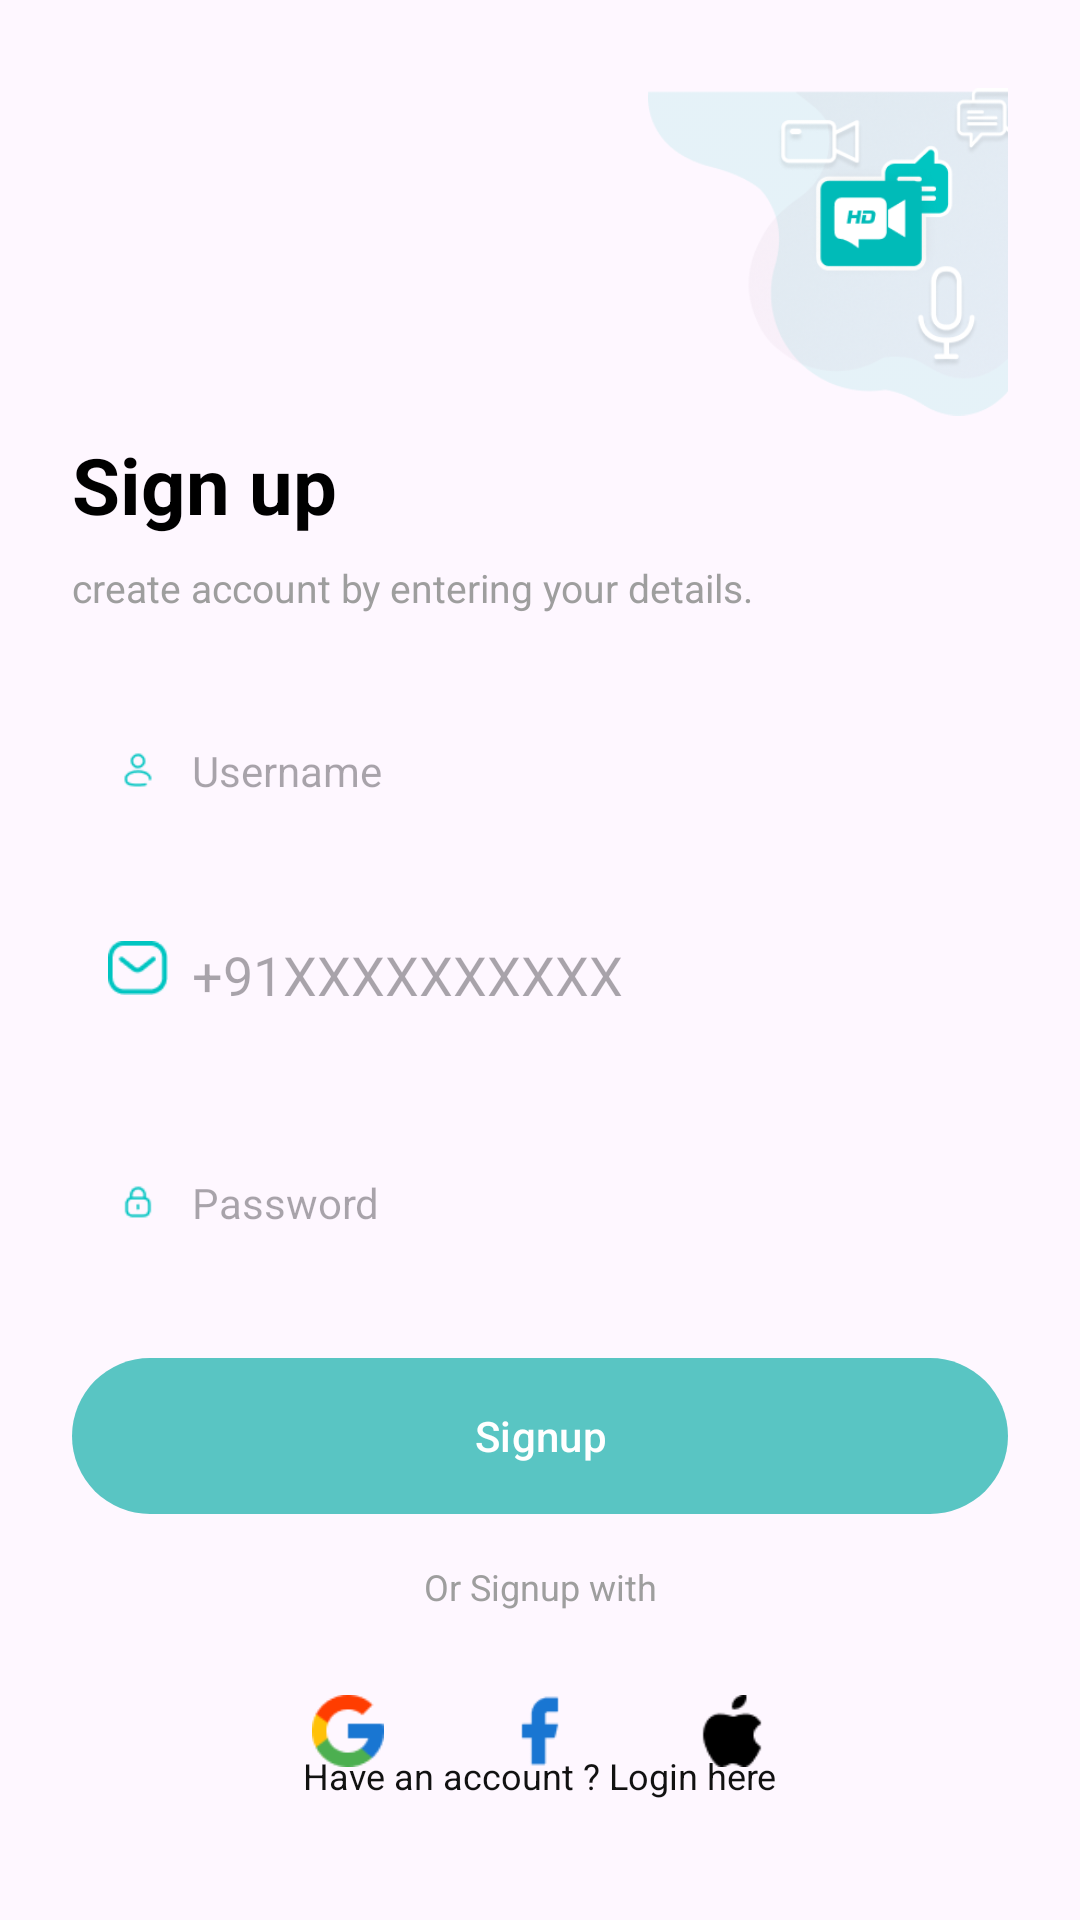

Named icons in this screenshot (1080px×1920px) and their bounding boxes, (x1, y1, x2, y2):
lock: (124, 1186, 152, 1218)
mail: (108, 941, 168, 995)
